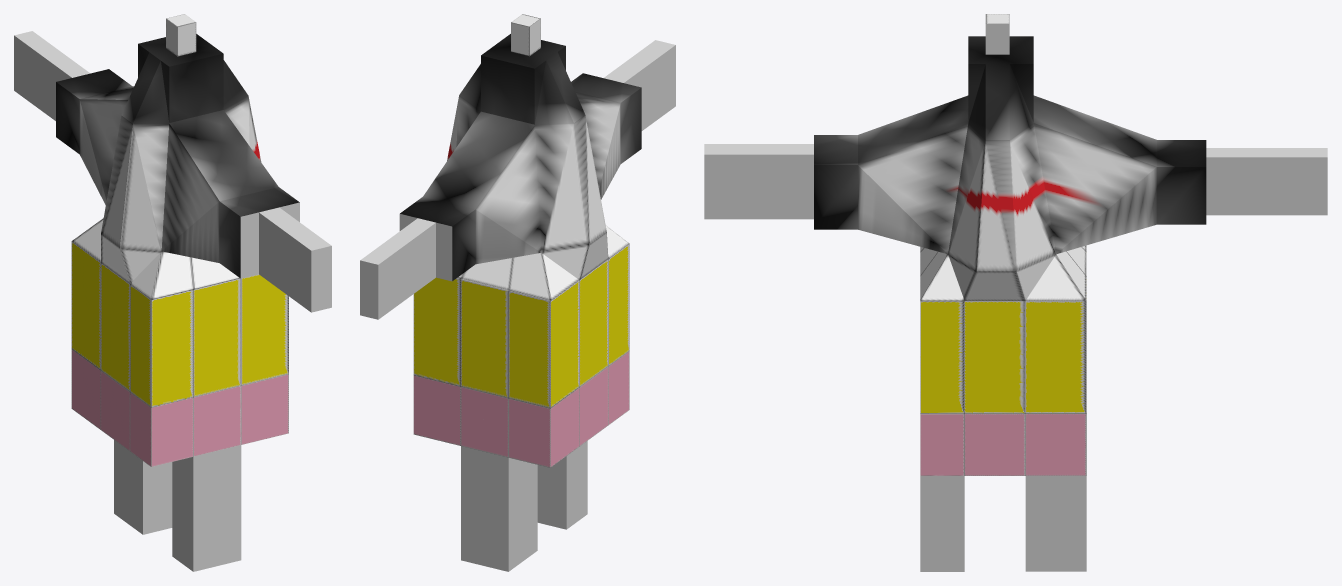
Rendered from man4.obj.
The picture shows the model from 3 angles, left to right: view 1: azimuth 30°, elevation 25°; view 2: azimuth 150°, elevation 25°; view 3: azimuth 270°, elevation 25°; orthographic projection. The views are drawn at different scales.
Size of the model in its own units: 3.37 by 11.04 by 11.52.
